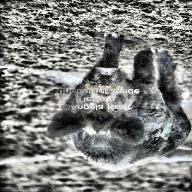boar: (54, 30, 180, 173)
